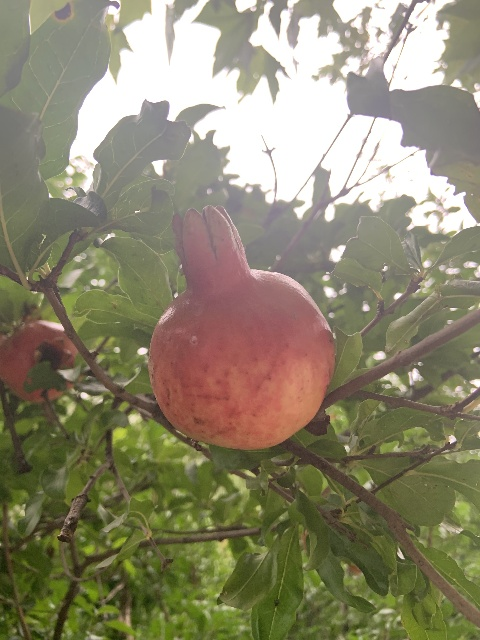ripe: (147, 203, 336, 449), (0, 320, 78, 402)
